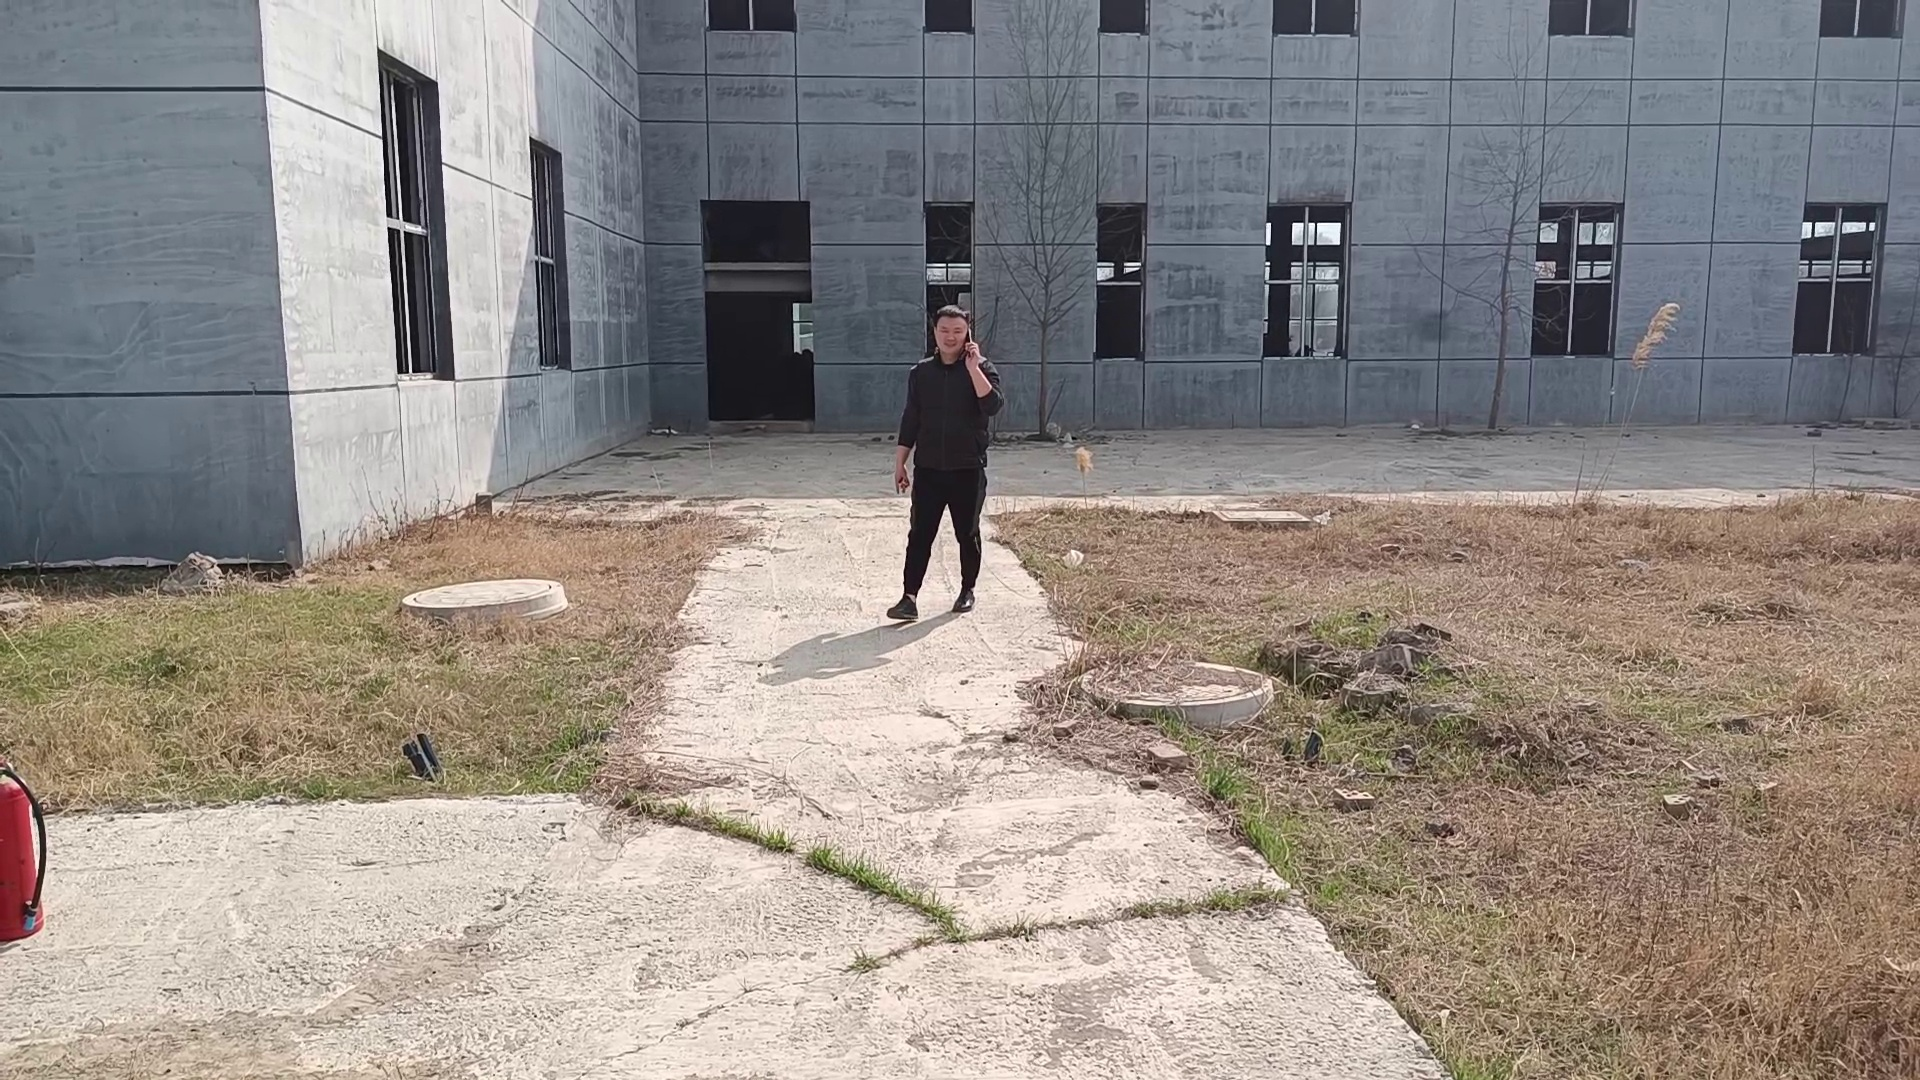phone: (935, 309, 992, 375)
